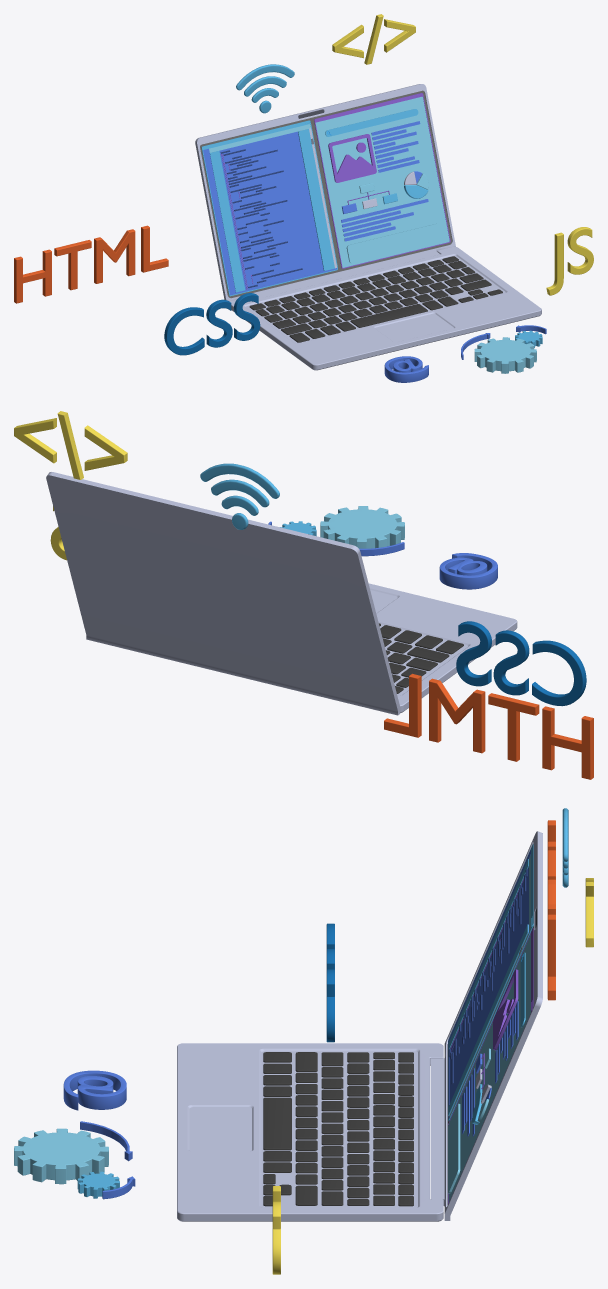
3 views of the same model, one above another, from view 1: azimuth 30°, elevation 25°; view 2: azimuth 150°, elevation 25°; view 3: azimuth 270°, elevation 25° (orthographic). The views are drawn at different scales.
Visible parts, largest first — view 1: laptop_body, Window_2_detail_001, Window_1_detail_001, laptop_key_bord, Window_2_detail_002, laptop_screen, Window_1_detail_002, HTML, Gears, CSS, <>, JS (+5 smaller); view 2: laptop_screen, HTML, laptop_body, CSS, Gears, <>, laptop_key_bord, Wi-Fi, @; view 3: laptop_body, laptop_key_bord, laptop_screen, Gears, Window_2_detail_002, Window_2_detail_001, Window_1_detail_001, Window_1_detail_002, @, HTML, CSS, Window_1_detail_004 (+2 smaller).
Part boxes in pixels (left/top/right/bottom): laptop_body: left=230, top=247, right=541, bottom=370; Window_2_detail_001: left=201, top=120, right=337, bottom=296; Window_1_detail_001: left=314, top=93, right=450, bottom=268; laptop_key_bord: left=249, top=256, right=502, bottom=342; Window_2_detail_002: left=203, top=124, right=337, bottom=295; laptop_screen: left=195, top=84, right=455, bottom=301; Window_1_detail_002: left=325, top=109, right=442, bottom=263; HTML: left=14, top=225, right=168, bottom=303; Gears: left=461, top=325, right=546, bottom=373; CSS: left=164, top=293, right=260, bottom=355; <>: left=332, top=14, right=415, bottom=64; JS: left=546, top=227, right=593, bottom=295; laptop_screen: left=46, top=472, right=400, bottom=715; HTML: left=384, top=673, right=593, bottom=779; laptop_body: left=368, top=583, right=517, bottom=712; CSS: left=456, top=621, right=586, bottom=706; Gears: left=268, top=506, right=404, bottom=556; <>: left=14, top=411, right=127, bottom=479; laptop_key_bord: left=379, top=623, right=463, bottom=693; Wi-Fi: left=200, top=463, right=279, bottom=529; @: left=439, top=553, right=497, bottom=589; laptop_body: left=177, top=1043, right=443, bottom=1221; laptop_key_bord: left=263, top=1052, right=413, bottom=1206; laptop_screen: left=430, top=831, right=542, bottom=1220; Gears: left=14, top=1121, right=135, bottom=1199; Window_2_detail_002: left=448, top=850, right=530, bottom=1119; Window_2_detail_001: left=448, top=844, right=533, bottom=1121; Window_1_detail_001: left=448, top=928, right=533, bottom=1204; Window_1_detail_002: left=448, top=952, right=525, bottom=1193; @: left=63, top=1070, right=126, bottom=1110; HTML: left=547, top=820, right=555, bottom=1000; CSS: left=326, top=923, right=334, bottom=1042; Window_1_detail_004: left=493, top=969, right=518, bottom=1050.
Size of what is drawn, in the model's own units: 10.39 by 4.49 by 7.02.
